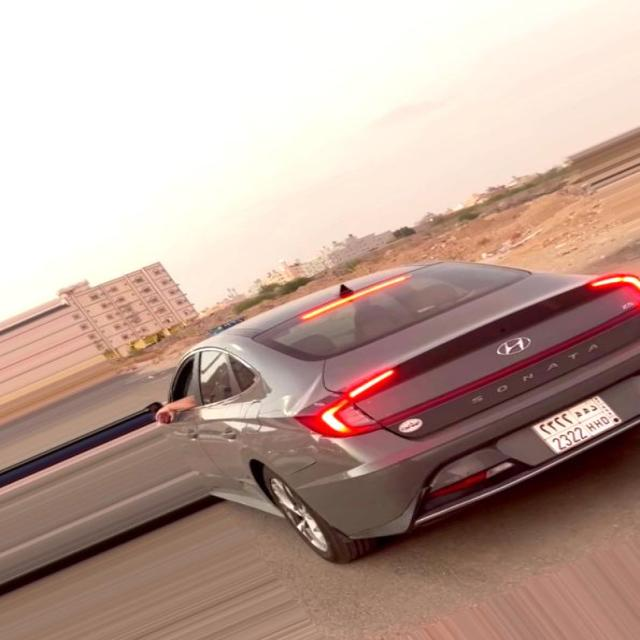Car-plate: (518, 391, 632, 461)
